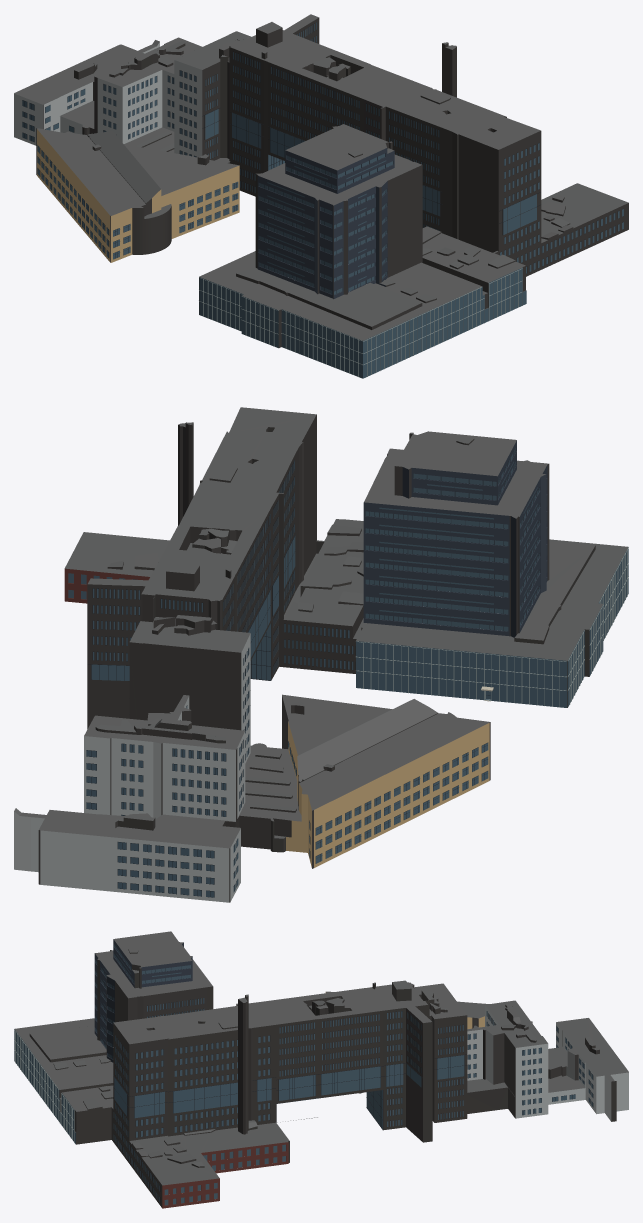
Rendered from roeterseiland-rec-a.glb.
The picture shows the model from 3 angles, top to bottom: view 1: azimuth 30°, elevation 25°; view 2: azimuth 150°, elevation 25°; view 3: azimuth 270°, elevation 25°; orthographic projection. The views are drawn at different scales.
Parts seen in each view (by area): view 1: roeterseiland-rec-a; view 2: roeterseiland-rec-a; view 3: roeterseiland-rec-a.
Part boxes in pixels (box(x1,y1,x2,y2)): roeterseiland-rec-a: box(14, 14, 628, 378); roeterseiland-rec-a: box(14, 407, 628, 902); roeterseiland-rec-a: box(14, 931, 628, 1208).
Bounding box in the file's own units: 143 × 59.24 × 210.
